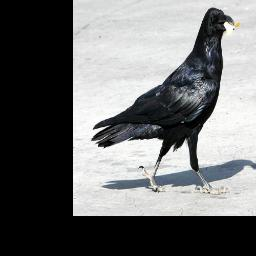Crow: (90, 7, 239, 197)
